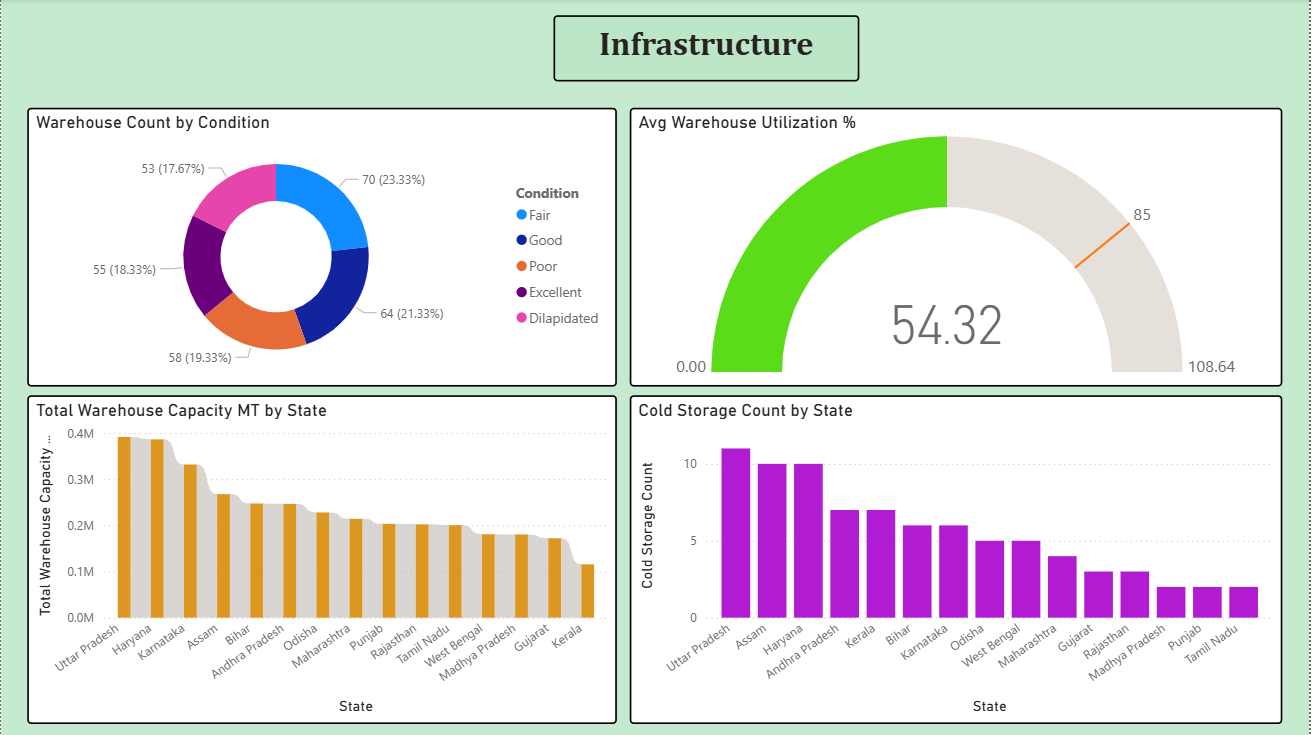

The dashboard page shown, as its layout file describes it:
{"tool":"powerbi","page":{"name":"Infrastructure","canvas":[1280,720],"ordinal":2},"visuals":[{"type":"donutChart","fields":{"Category":["Warehouse_Infrastructure.Condition"],"Y":["Measures (2).Warehouse Count"]},"box":[25.7,106.4,577.2,272.7],"z":0},{"type":"gauge","fields":{"Y":["Measures (2).Avg Warehouse Utilization %"]},"box":[615.1,106.4,638.3,272.7],"z":1000},{"type":"ribbonChart","fields":{"Category":["Warehouse_Infrastructure.State"],"Y":["Measures (2).Total Warehouse Capacity MT"]},"box":[25.7,387.6,577.2,321.6],"z":2000},{"type":"clusteredColumnChart","fields":{"Category":["Warehouse_Infrastructure.State"],"Y":["Measures (2).Cold Storage Count"]},"box":[615.1,387.6,638.3,321.6],"z":3000},{"type":"textbox","box":[540.5,15.9,299.6,64.8],"z":4000}]}

Visuals, with their boxes in screenshot pixels (x1, y1, x2, y2), scaled from the page's 1280x720 canvas onto the 1312x735 screenshot:
donutChart - Warehouse_Infrastructure.Condition x Measures (2).Warehouse Count: bbox=(26, 109, 618, 387)
gauge - Measures (2).Avg Warehouse Utilization %: bbox=(630, 109, 1285, 387)
ribbonChart - Warehouse_Infrastructure.State x Measures (2).Total Warehouse Capacity MT: bbox=(26, 396, 618, 724)
clusteredColumnChart - Warehouse_Infrastructure.State x Measures (2).Cold Storage Count: bbox=(630, 396, 1285, 724)
textbox: bbox=(554, 16, 861, 82)
